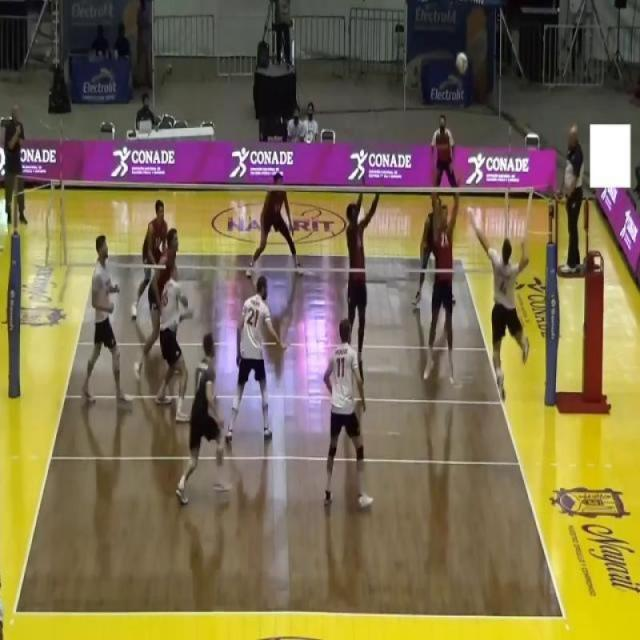volleyball: (456, 51, 468, 76)
